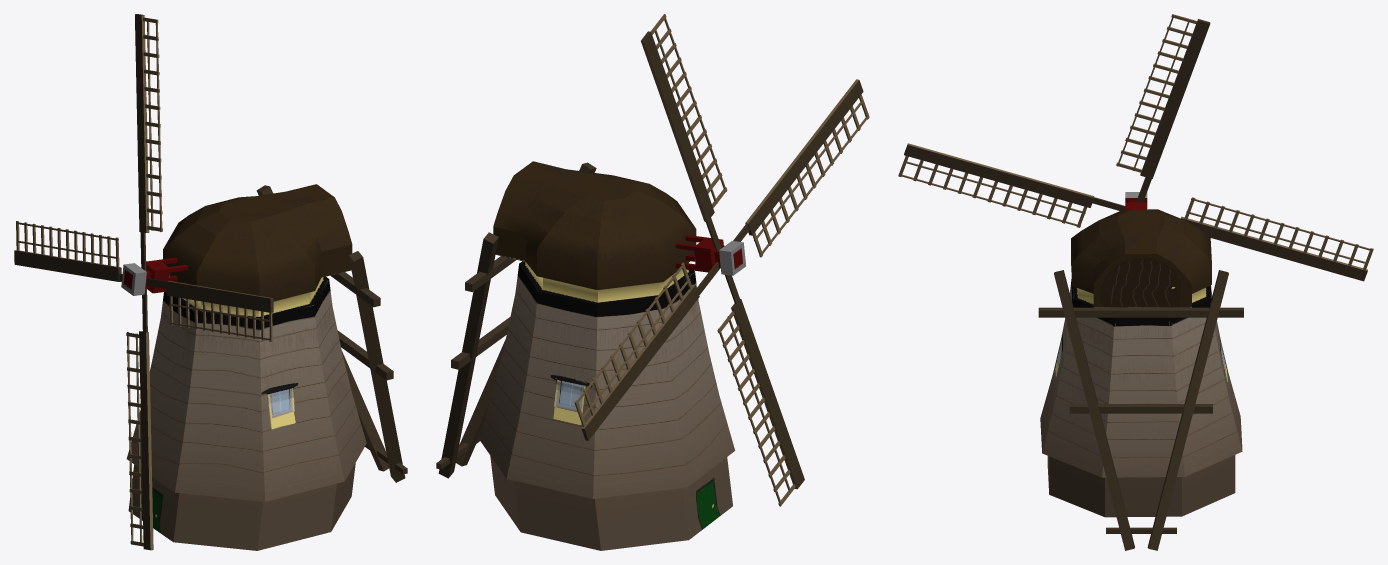
The model's file is Windmill_Final_Static.fbx.
The picture shows the model from 3 angles, left to right: view 1: azimuth 30°, elevation 25°; view 2: azimuth 150°, elevation 25°; view 3: azimuth 270°, elevation 25°; orthographic projection. The views are drawn at different scales.
Parts seen in each view (by area): view 1: Main_Buildin, Propellers, Supports, Front_Box; view 2: Main_Buildin, Propellers, Supports, Front_Box; view 3: Main_Buildin, Propellers, Supports.
Boxes of the visible parts, x1,y1,x2,y2 form: Main_Buildin: [126, 184, 366, 550]; Propellers: [14, 14, 273, 550]; Supports: [256, 185, 407, 482]; Front_Box: [121, 257, 188, 295]; Main_Buildin: [479, 161, 735, 550]; Propellers: [574, 14, 869, 506]; Supports: [436, 162, 596, 478]; Front_Box: [675, 235, 745, 275]; Main_Buildin: [1040, 209, 1242, 517]; Propellers: [898, 14, 1373, 281]; Supports: [1038, 270, 1243, 550].
Size of the model in its own units: 117 by 190 by 185.
